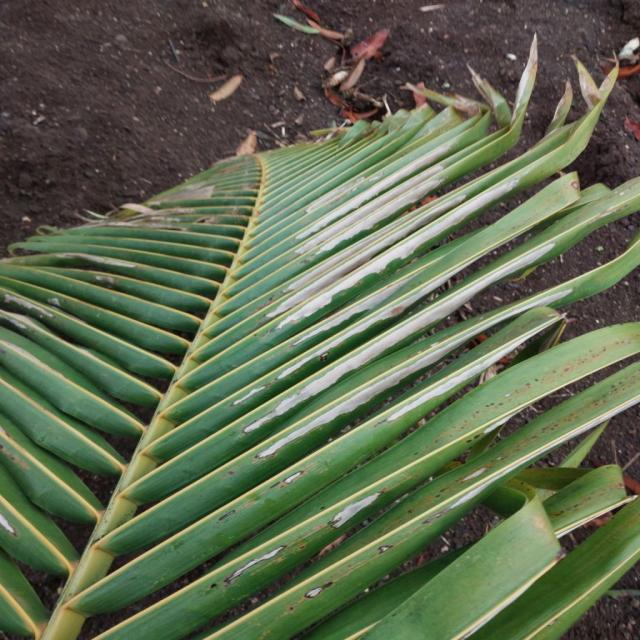gray leaf spot: (248, 142, 566, 489)
